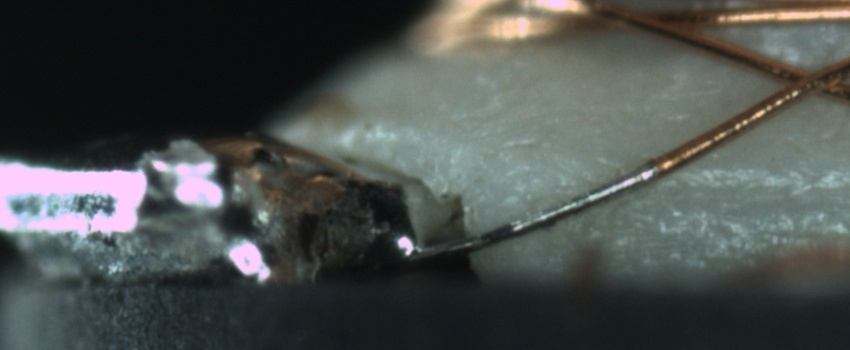CL: (766, 53, 845, 104)
DL: (641, 163, 849, 227)
TS: (402, 160, 660, 260)
